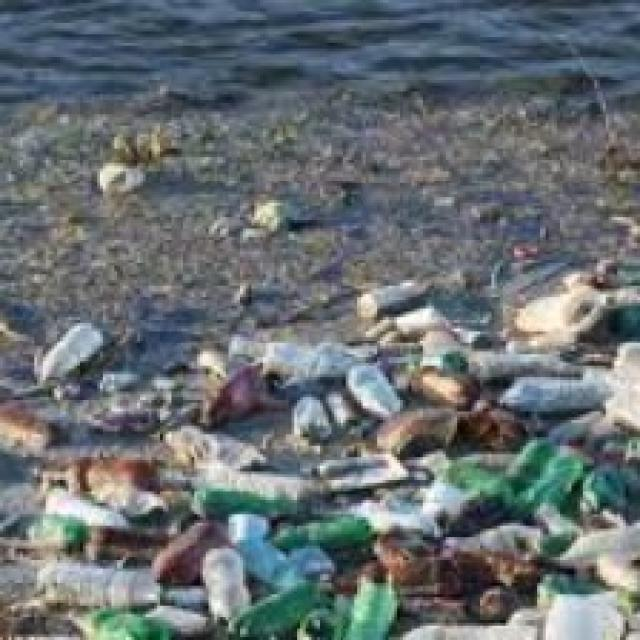heap: (241, 370, 640, 640)
plastic_bottle: (30, 555, 165, 627), (35, 315, 106, 397), (339, 365, 416, 432), (196, 545, 258, 627), (346, 563, 404, 640), (505, 430, 556, 500), (543, 436, 582, 520), (288, 390, 333, 447)
